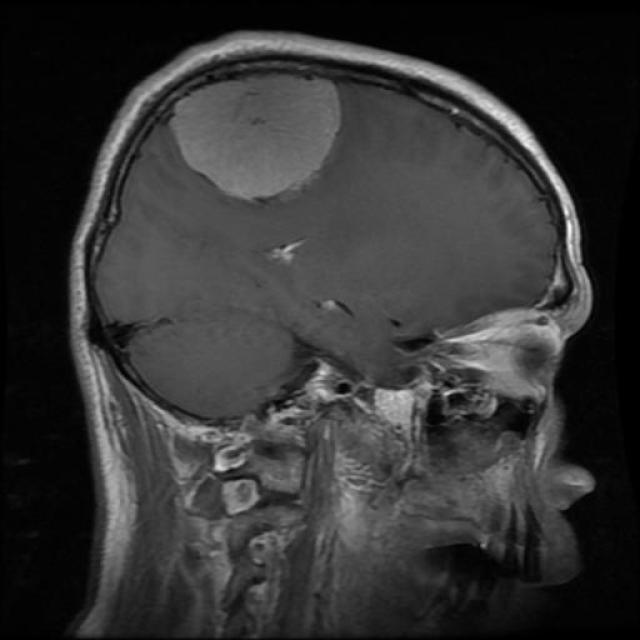meningioma: (168, 74, 342, 201)
